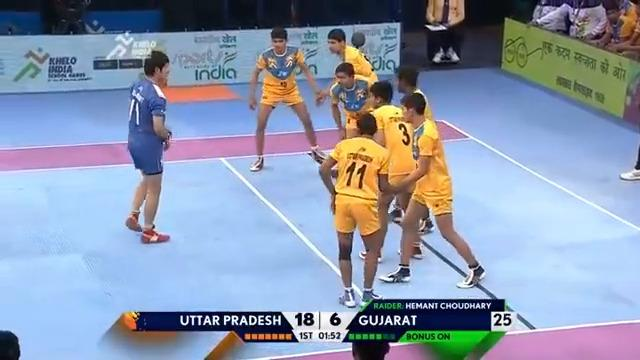Player: (378, 90, 486, 288), (319, 113, 395, 307), (357, 80, 431, 262), (247, 26, 327, 171), (316, 27, 379, 139), (329, 61, 370, 140)
Raider: (124, 49, 173, 243)
referee: (528, 0, 612, 44), (423, 0, 465, 65), (567, 0, 610, 42), (527, 0, 573, 34), (44, 0, 87, 34), (0, 329, 20, 359)
